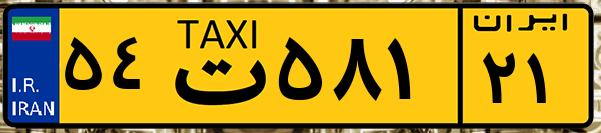1: (385, 28, 445, 110), (525, 38, 570, 115)
2: (475, 38, 525, 113)
4: (110, 28, 158, 98)
5: (270, 28, 330, 110), (57, 26, 110, 100)
8: (330, 28, 385, 110)
ت: (158, 12, 270, 120)
